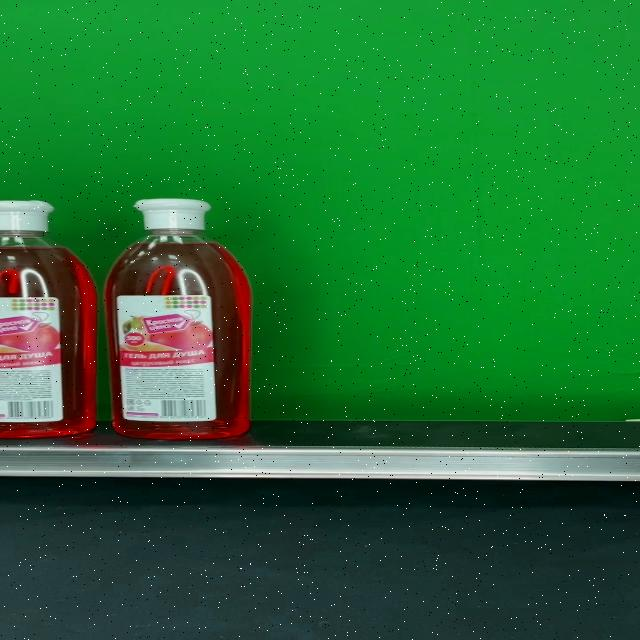Bottle: (104, 199, 250, 439)
Cap: (132, 199, 210, 231)
